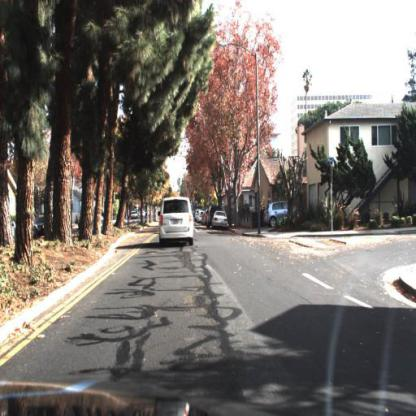car: (155, 194, 205, 249), (261, 200, 303, 230), (212, 210, 230, 233), (35, 218, 48, 239)
